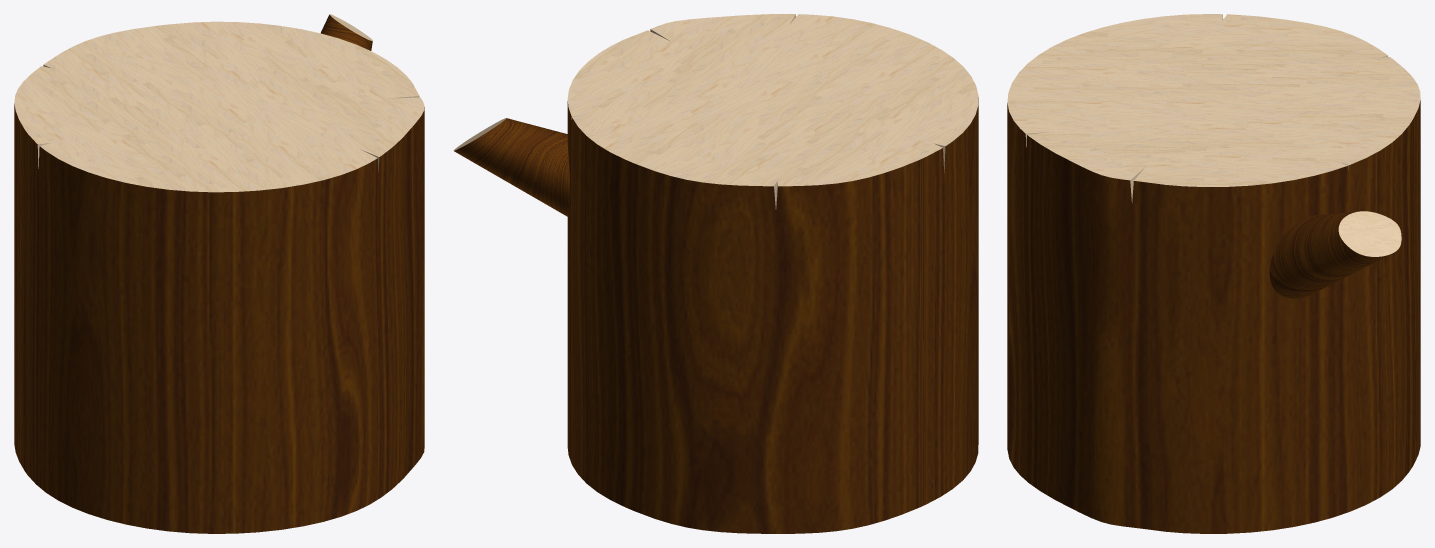
The model's file is Wood.obj.
3 renders of one model, left to right at view 1: azimuth 30°, elevation 25°; view 2: azimuth 150°, elevation 25°; view 3: azimuth 270°, elevation 25°, orthographic.
Parts seen in each view (by area): view 1: |Log|Root|brushed_bronze, |Log|Root|polished_aluminum, |Log|Root|brushed_copper; view 2: |Log|Root|brushed_bronze, |Log|Root|polished_aluminum, |Log|Root|brushed_copper; view 3: |Log|Root|brushed_bronze, |Log|Root|polished_aluminum, |Log|Root|brushed_copper, |Log|Root|polished_brass.
Part boxes in pixels (x1,y1,x2,y2): |Log|Root|brushed_bronze: (14, 104, 424, 533); |Log|Root|polished_aluminum: (14, 21, 424, 192); |Log|Root|brushed_copper: (321, 14, 372, 50); |Log|Root|brushed_bronze: (567, 97, 978, 533); |Log|Root|polished_aluminum: (567, 14, 978, 186); |Log|Root|brushed_copper: (454, 118, 569, 216); |Log|Root|brushed_bronze: (1007, 100, 1420, 533); |Log|Root|polished_aluminum: (1007, 14, 1420, 186); |Log|Root|brushed_copper: (1269, 211, 1390, 298); |Log|Root|polished_brass: (1338, 211, 1401, 256).
Size of the model in its own units: 0.5184 by 0.42 by 0.4534.
Materials: 2 (2 with a texture image).
